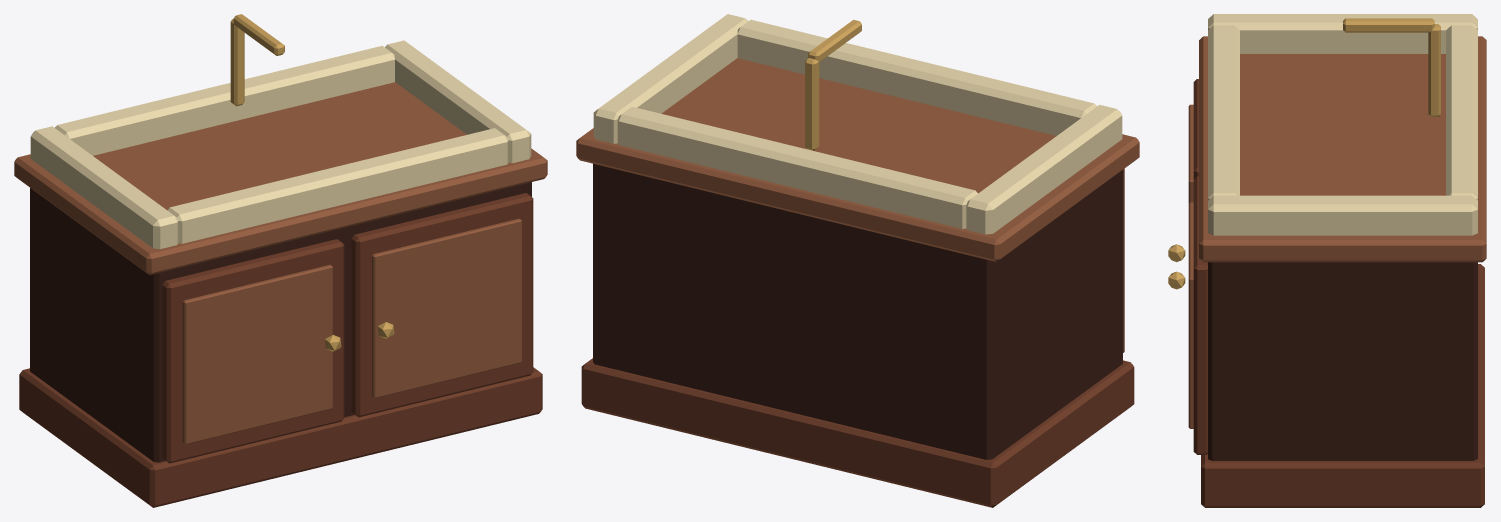
Rendered from sink.glb.
3 views of the same model, side by side, from view 1: azimuth 30°, elevation 25°; view 2: azimuth 150°, elevation 25°; view 3: azimuth 270°, elevation 25° (orthographic). The views are drawn at different scales.
Parts seen in each view (by area): view 1: Base, Base_Top, Base_Body, Base_Plinth, RimY, RimY_001, RimX, RimX_001, TapStem, TapNeck; view 2: Base_Body, Base_Top, Base_Plinth, RimY_001, RimY, RimX, RimX_001, TapStem, TapNeck; view 3: Base_Body, Base_Top, Base_Plinth, RimX_001, RimX, Base, RimY, RimY_001, TapNeck, TapStem.
Part boxes in pixels (x1,y1,x2,y2): Base: [162, 193, 533, 463]; Base_Top: [14, 82, 547, 274]; Base_Body: [30, 182, 531, 462]; Base_Plinth: [19, 367, 542, 507]; RimY: [167, 128, 508, 243]; RimY_001: [55, 45, 394, 155]; RimX: [30, 126, 178, 249]; RimX_001: [385, 40, 531, 163]; TapStem: [230, 18, 244, 106]; TapNeck: [233, 14, 284, 55]; Base_Body: [593, 163, 1122, 459]; Base_Top: [576, 58, 1139, 261]; Base_Plinth: [581, 358, 1134, 507]; RimY_001: [617, 106, 977, 228]; RimY: [737, 19, 1096, 135]; RimX: [966, 104, 1122, 234]; RimX_001: [593, 14, 748, 143]; TapStem: [805, 58, 819, 150]; TapNeck: [808, 19, 861, 61]; Base_Body: [1208, 262, 1477, 460]; Base_Top: [1199, 36, 1486, 262]; Base_Plinth: [1201, 264, 1484, 507]; RimX_001: [1208, 195, 1477, 235]; RimX: [1208, 14, 1477, 53]; Base: [1168, 79, 1207, 454]; RimY: [1208, 25, 1239, 200]; RimY_001: [1446, 25, 1477, 200]; TapNeck: [1343, 18, 1434, 32]; TapStem: [1428, 24, 1440, 116].
Bounding box in the file's own units: 1.38 × 1.21 × 0.8968.
